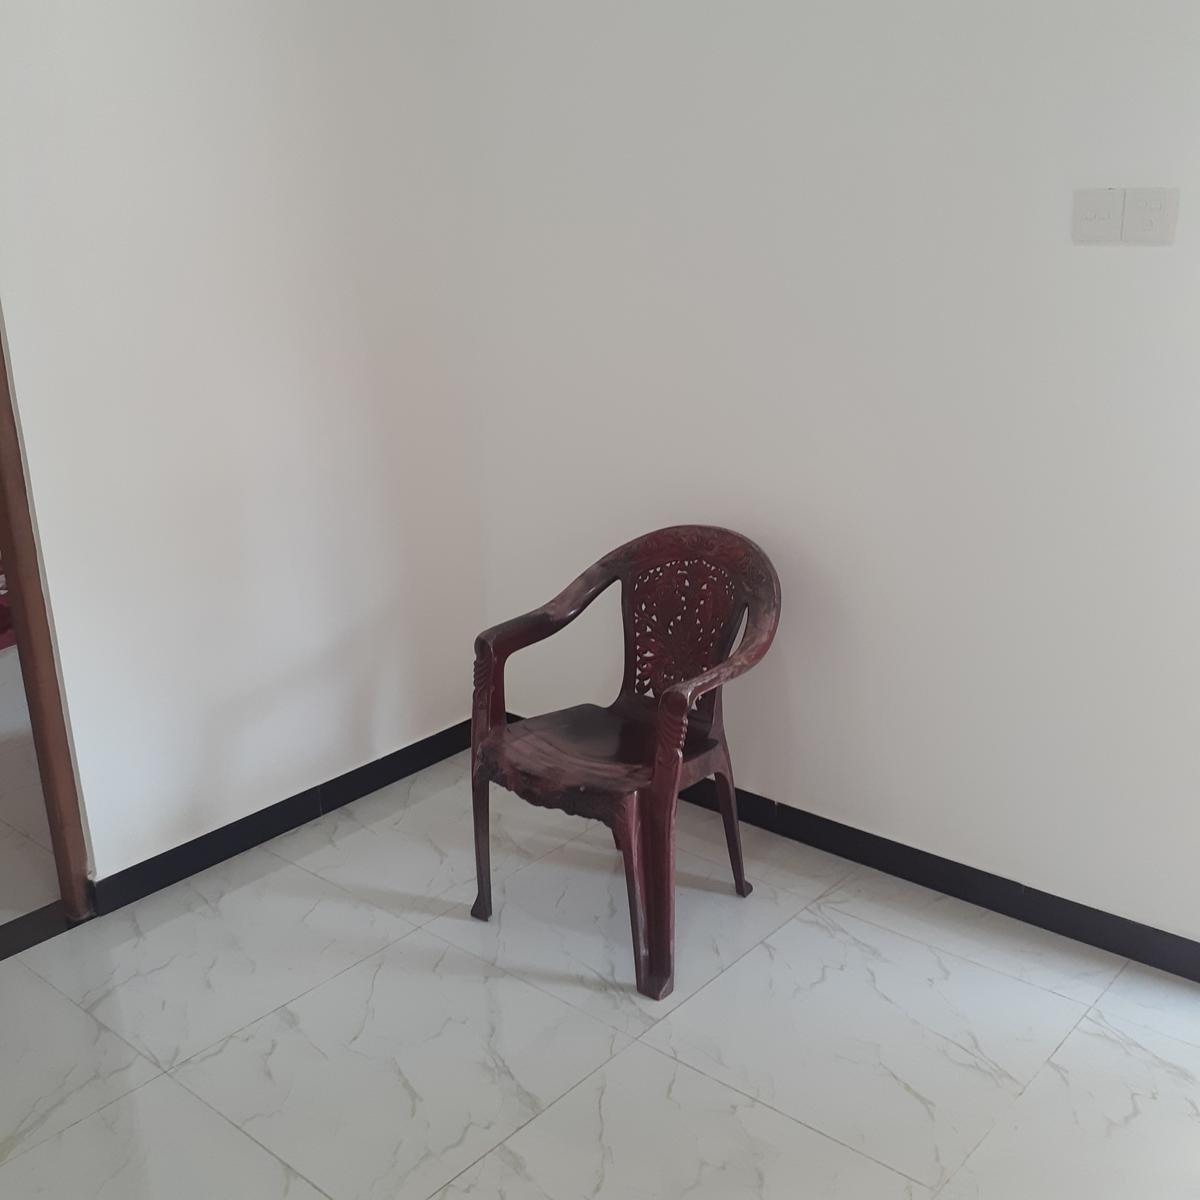Chair: (467, 520, 777, 1001)
